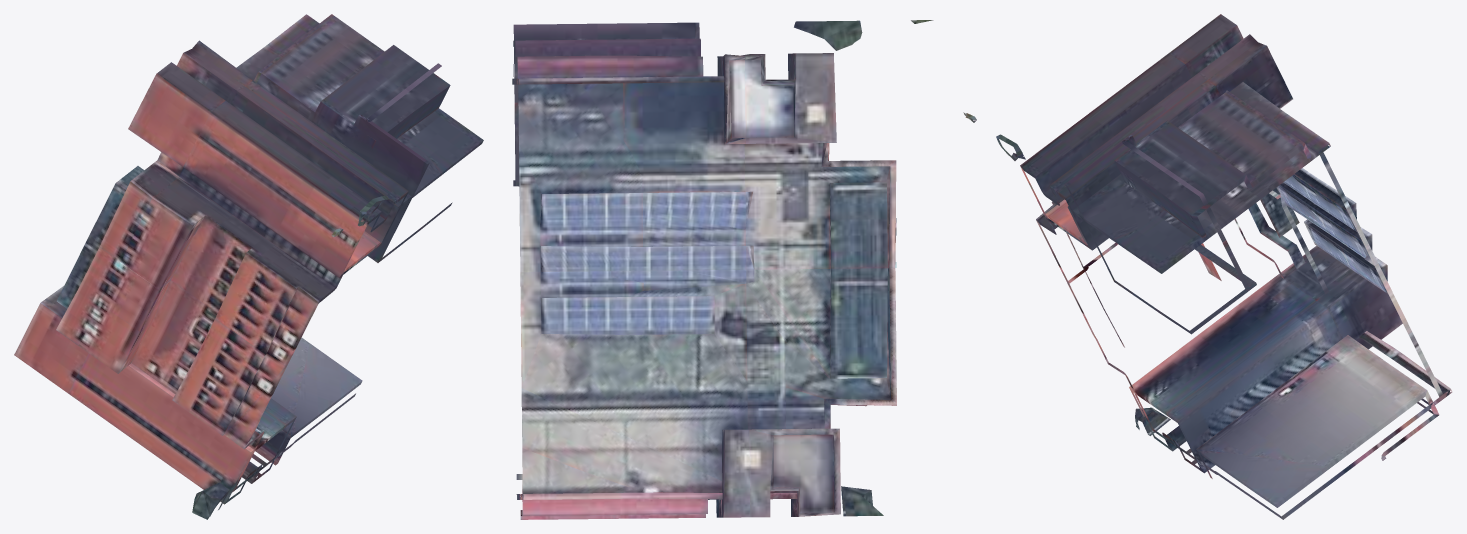
The picture shows the model from 3 angles, left to right: view 1: azimuth 30°, elevation 25°; view 2: azimuth 150°, elevation 25°; view 3: azimuth 270°, elevation 25°; orthographic projection. The views are drawn at different scales.
Bounding box in the file's own units: 40.05 × 42.92 × 46.24.
Materials: 2 (2 with a texture image).
